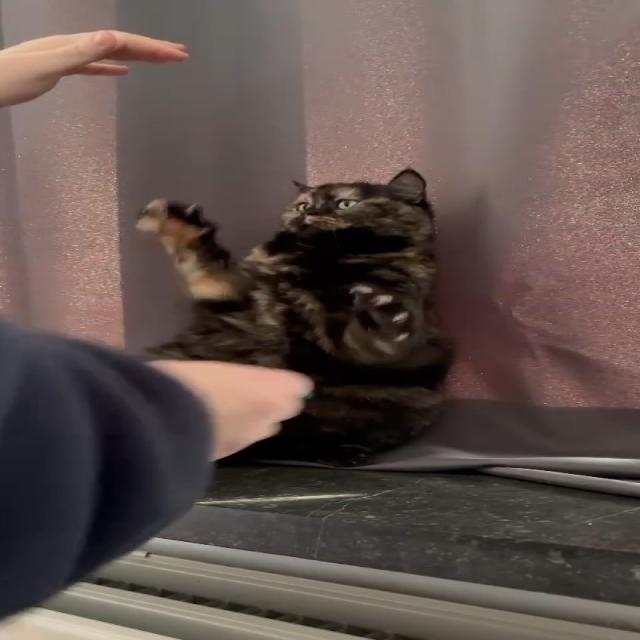authorized: (136, 167, 455, 468)
